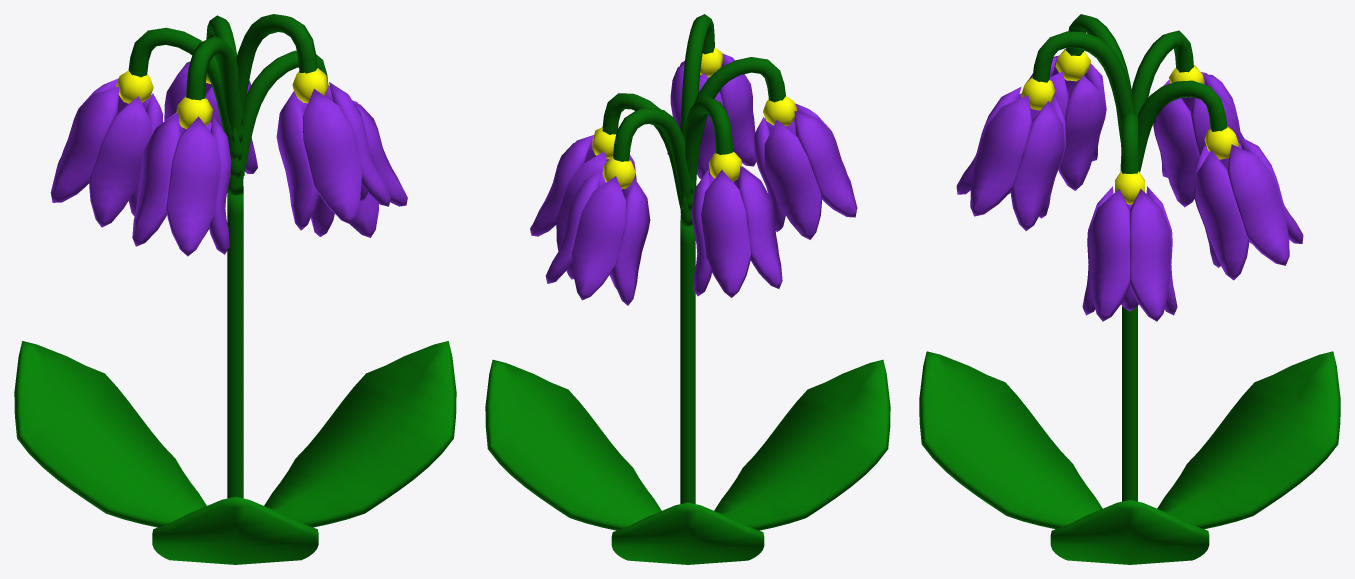
File: bluebells_0005.obj
The picture shows the model from 3 angles, left to right: view 1: azimuth 30°, elevation 25°; view 2: azimuth 150°, elevation 25°; view 3: azimuth 270°, elevation 25°; orthographic projection. The views are drawn at different scales.
Parts seen in each view (by area): view 1: bluebells_0005; view 2: bluebells_0005; view 3: bluebells_0005.
Boxes of the visible parts, left/top/right/bottom form: bluebells_0005: left=14, top=14, right=456, bottom=564; bluebells_0005: left=485, top=14, right=890, bottom=564; bluebells_0005: left=919, top=14, right=1340, bottom=564.
Bounding box in the file's own units: 2.21 × 3.15 × 2.33.
1 material, 1 textured.
